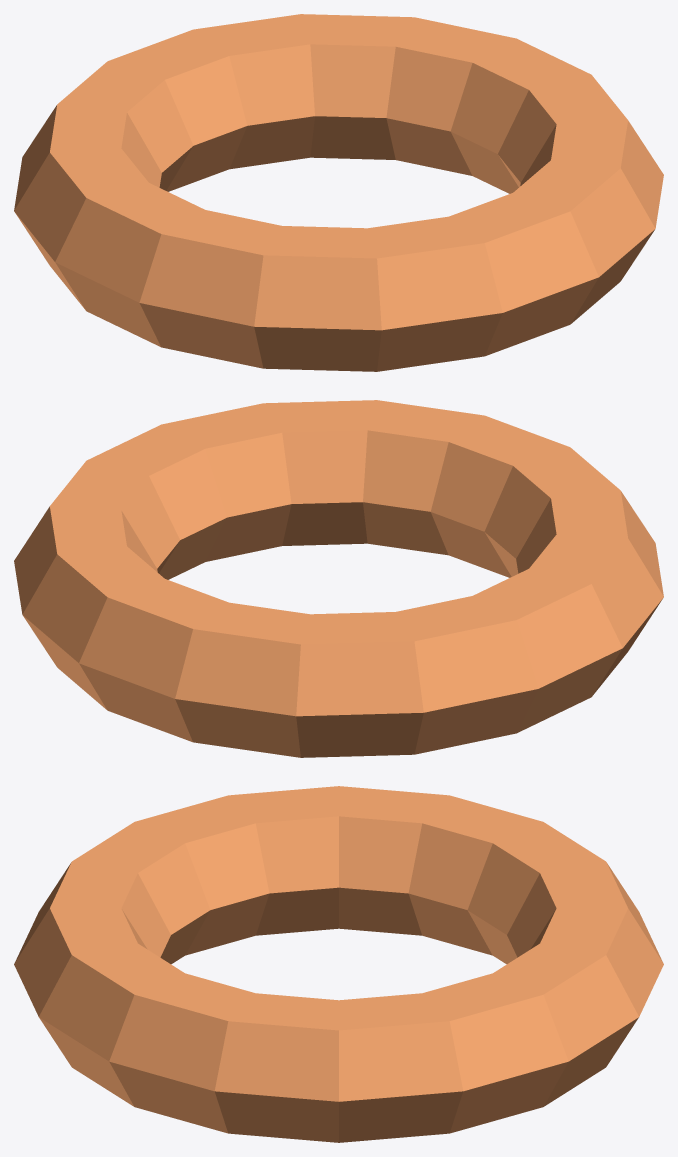
3 renders of one model, top to bottom at view 1: azimuth 30°, elevation 25°; view 2: azimuth 150°, elevation 25°; view 3: azimuth 270°, elevation 25°, orthographic.
Visible parts, largest first — view 1: Life ring; view 2: Life ring; view 3: Life ring.
Boxes of the visible parts, x1,y1,x2,y2 form: Life ring: [14, 14, 663, 371]; Life ring: [14, 400, 663, 757]; Life ring: [14, 786, 663, 1142].
Size of the model in its own units: 0.59 by 0.1126 by 0.59.
Materials: 1 (1 with a texture image).
